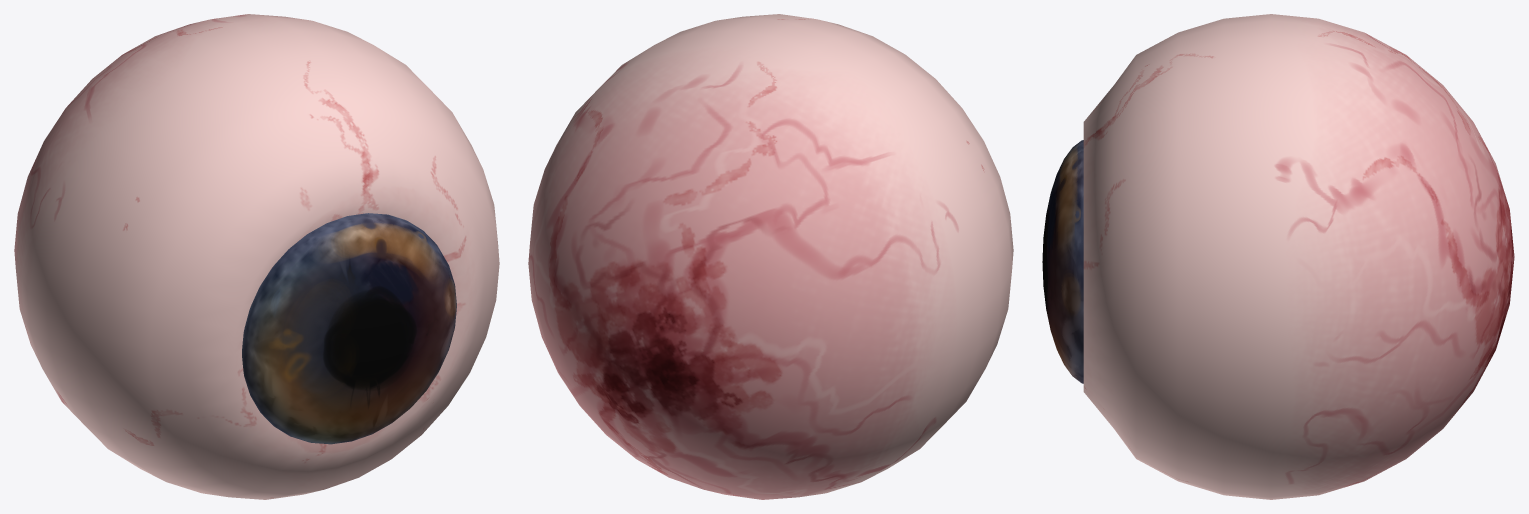
The model's file is Oogbal.fbx.
3 views of the same model, side by side, from view 1: azimuth 30°, elevation 25°; view 2: azimuth 150°, elevation 25°; view 3: azimuth 270°, elevation 25° (orthographic).
Visible parts, largest first — view 1: Ball, Eye; view 2: Ball; view 3: Ball, Eye.
Boxes of the visible parts, x1,y1,x2,y2 form: Ball: (14,14,499,499); Eye: (242,213,456,444); Ball: (528,14,1013,499); Ball: (1083,14,1514,499); Eye: (1042,140,1083,383).
Size of the model in its own units: 200 by 200 by 194.
2 materials, 2 textured.
